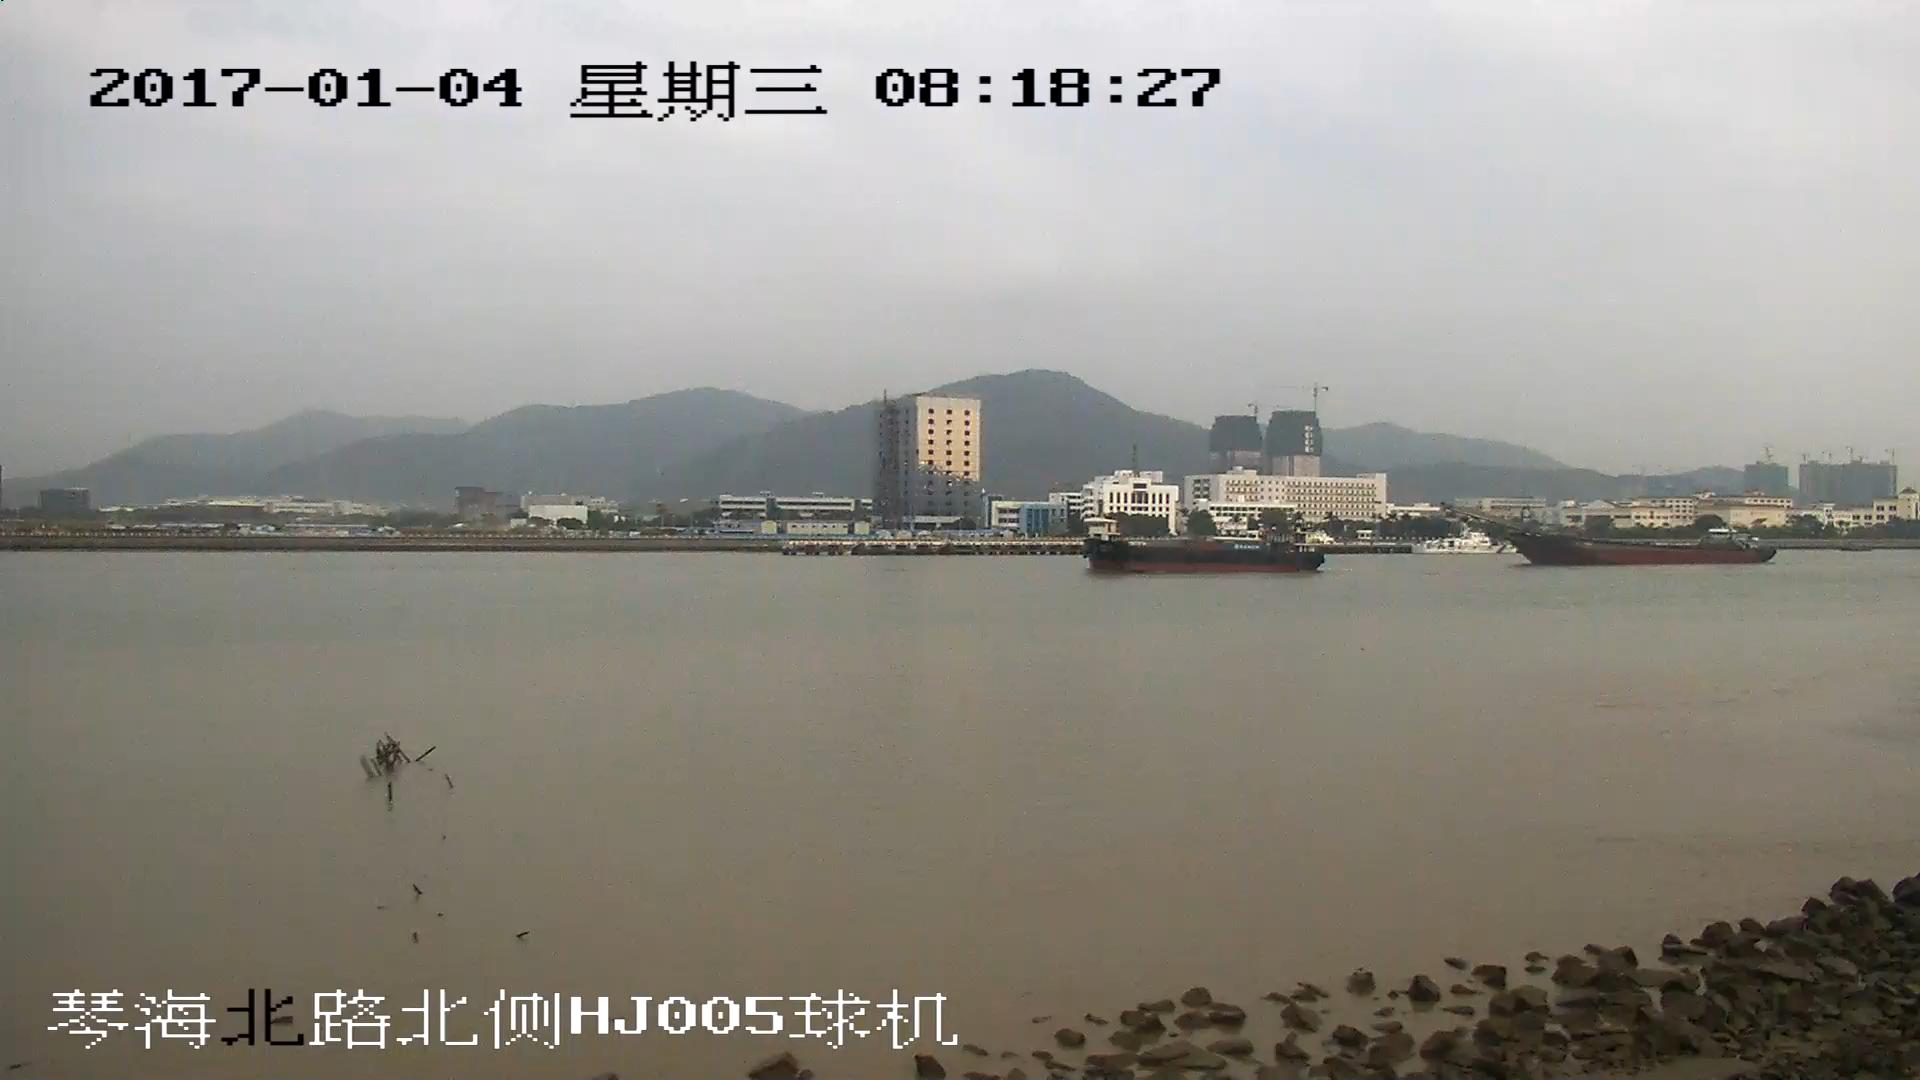bulk cargo carrier: (1444, 503, 1779, 566)
container ship: (1091, 522, 1323, 575)
